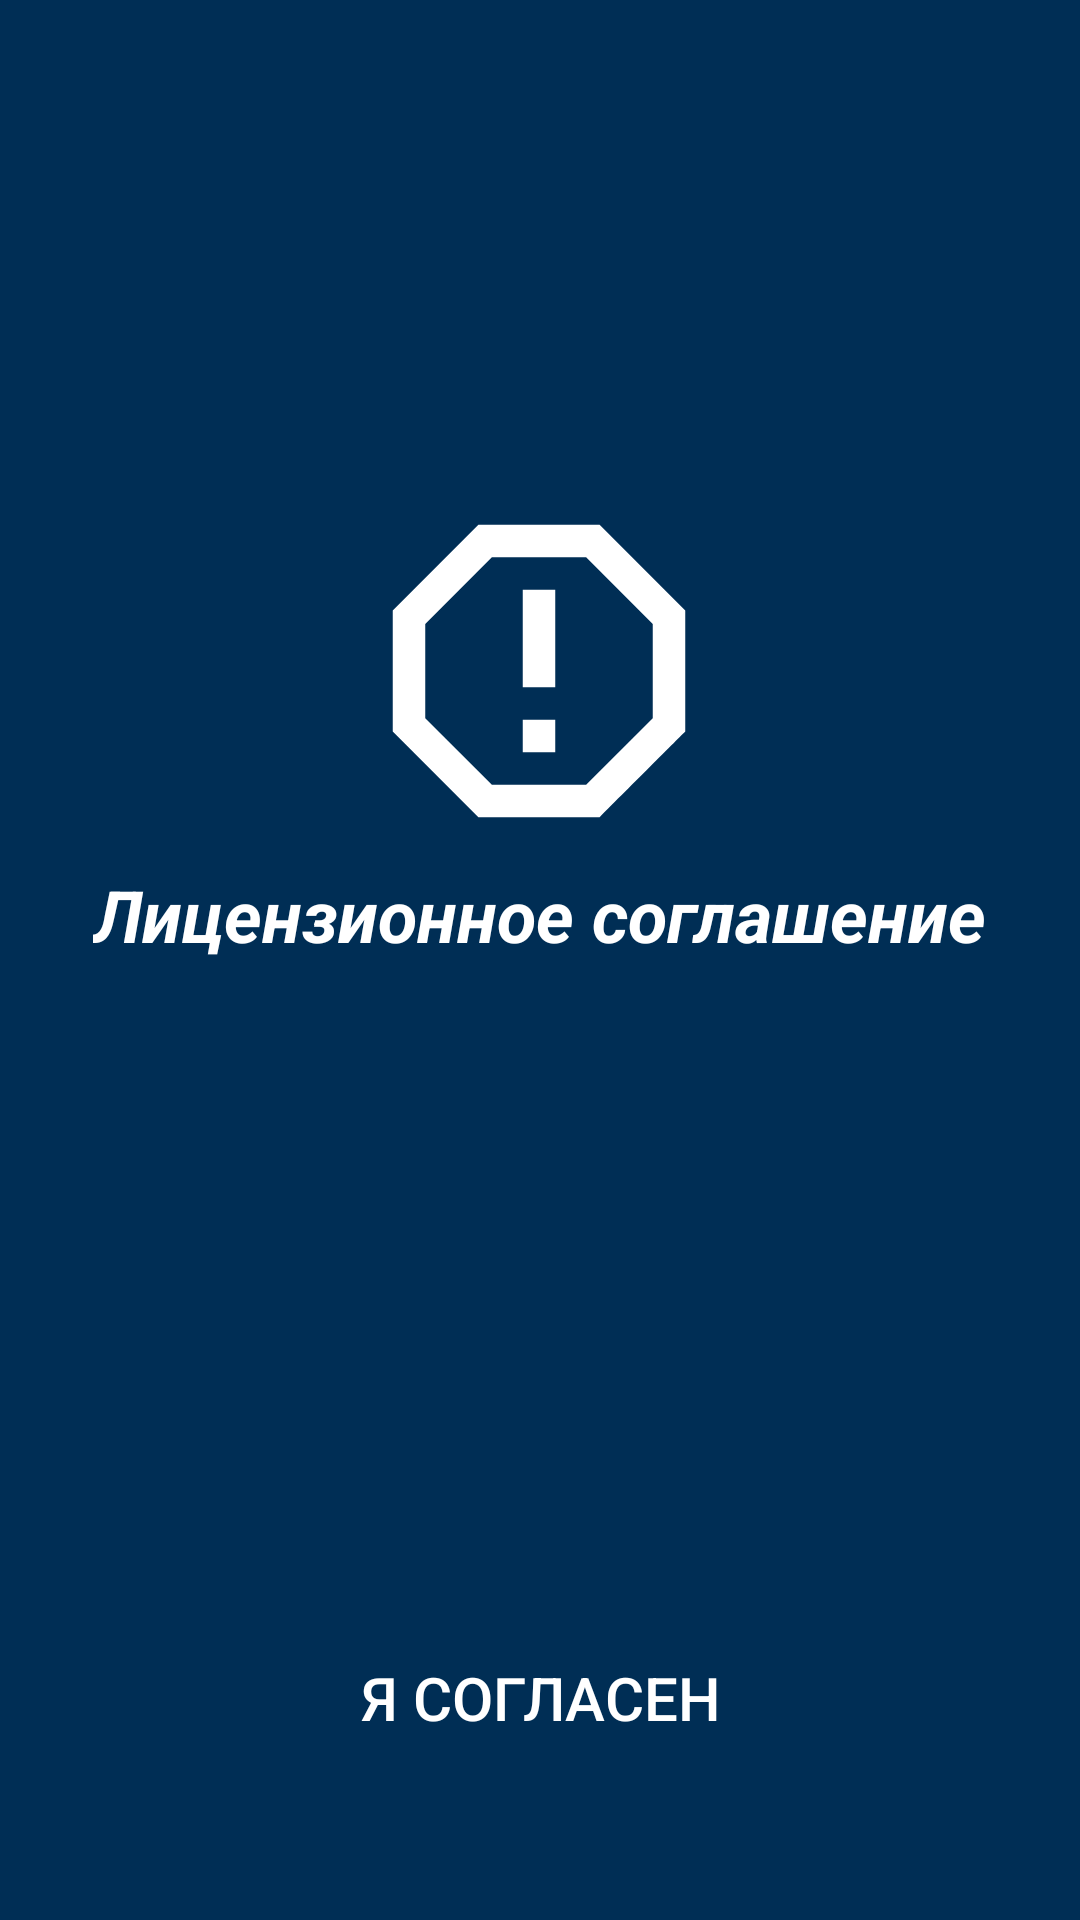

Icon bounding boxes for this 1080×1920 phone screenshot, format (x1, y1, x2, y2):
license warning: (392, 524, 686, 818)
